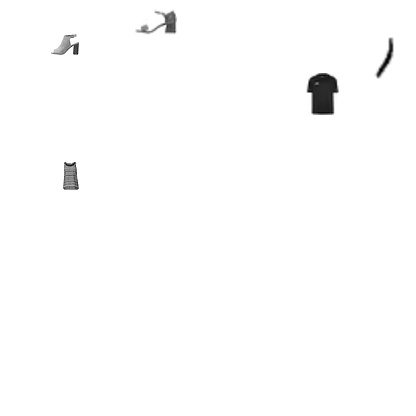1: (339, 43, 381, 85), (81, 230, 95, 244)
5: (204, 113, 226, 135)
6: (53, 175, 109, 231)
Bag: (74, 48, 130, 104)
Coat: (172, 289, 284, 401)
T-shirt/top: (150, 31, 234, 115), (284, 312, 312, 340)
Trouser: (295, 106, 407, 218)
